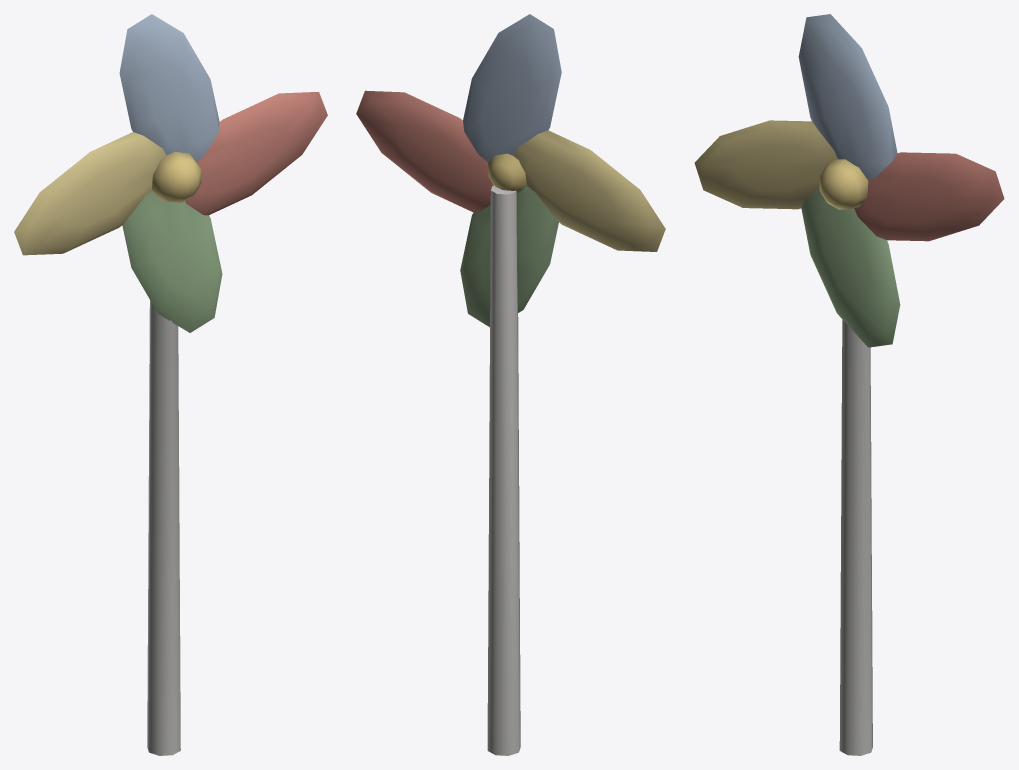
Rendered from toy_windmill.glb.
3 views of the same model, side by side, from view 1: azimuth 30°, elevation 25°; view 2: azimuth 150°, elevation 25°; view 3: azimuth 330°, elevation 25° (orthographic).
Parts seen in each view (by area): view 1: toy_windmill; view 2: toy_windmill; view 3: toy_windmill.
Boxes of the visible parts, x1,y1,x2,y2 form: toy_windmill: (14,14,327,755); toy_windmill: (356,14,665,755); toy_windmill: (694,14,1004,755).
Size of the model in its own units: 0.5208 by 1.18 by 0.095.
